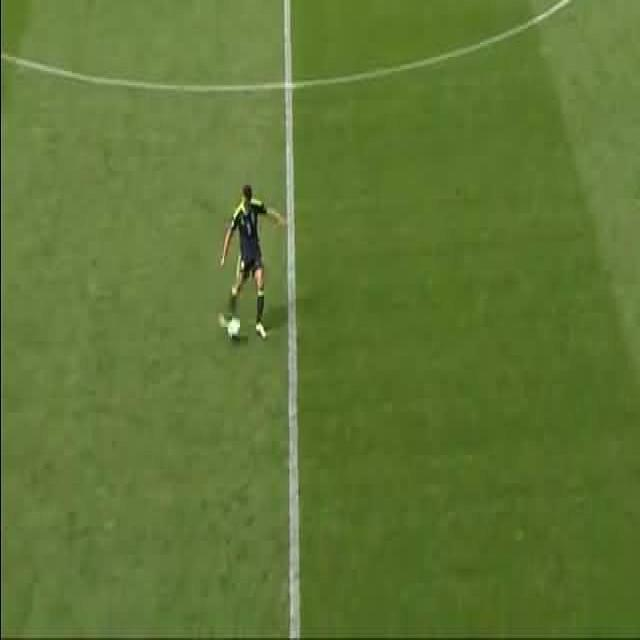ball: (227, 318, 241, 340)
player-white: (220, 184, 285, 336)
